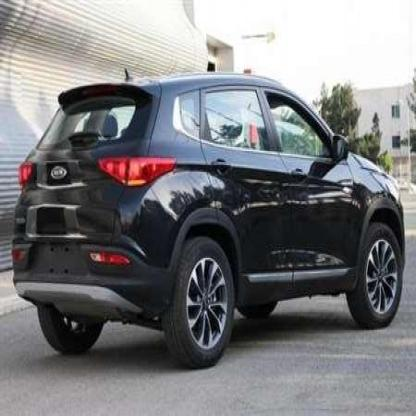Car: (8, 57, 410, 358)
